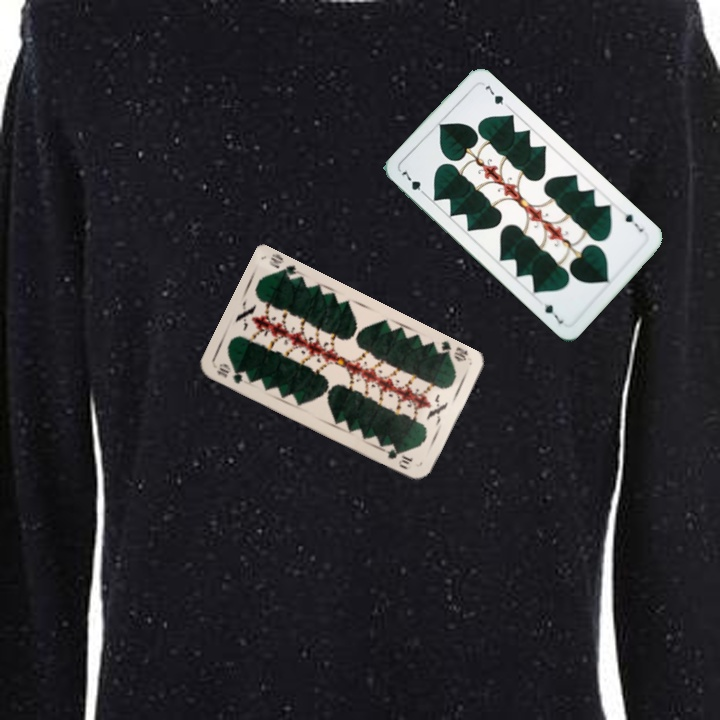G10: (431, 337, 471, 364), (213, 359, 246, 386)
G7: (397, 165, 429, 199), (621, 210, 646, 235)
